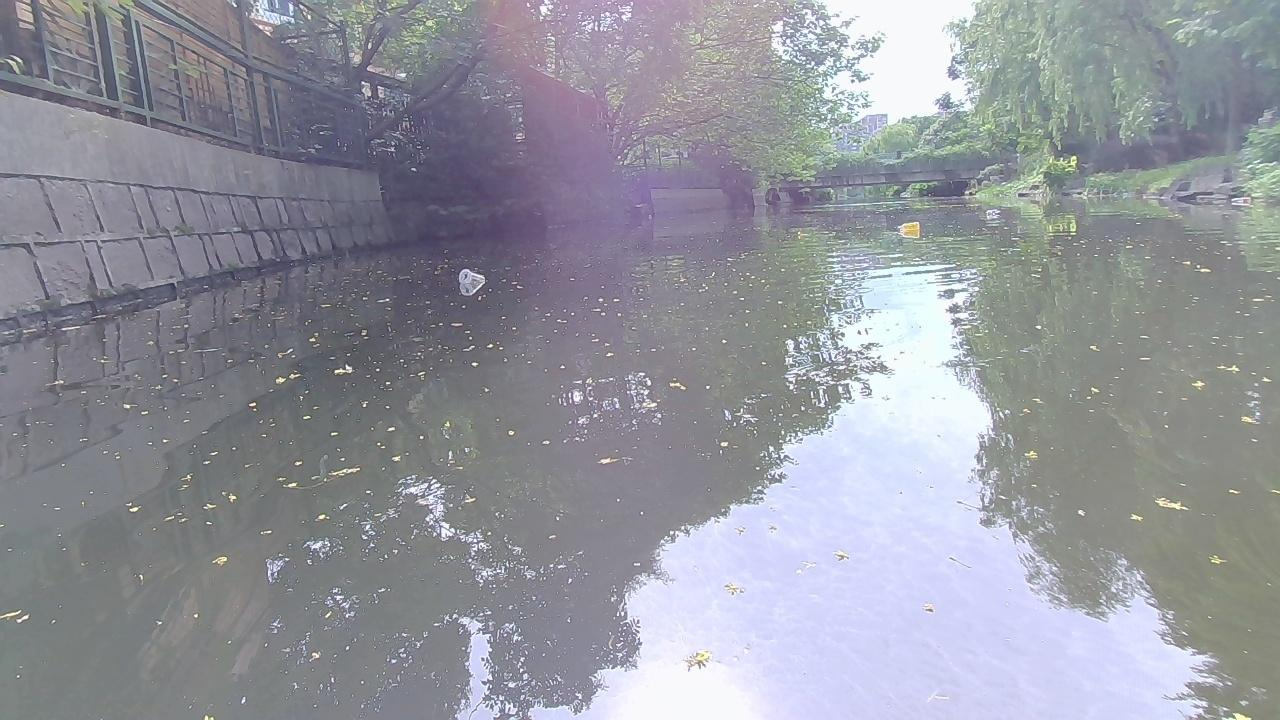bottle: (457, 266, 485, 284), (895, 219, 921, 231), (1230, 196, 1254, 205), (984, 207, 1002, 215)
